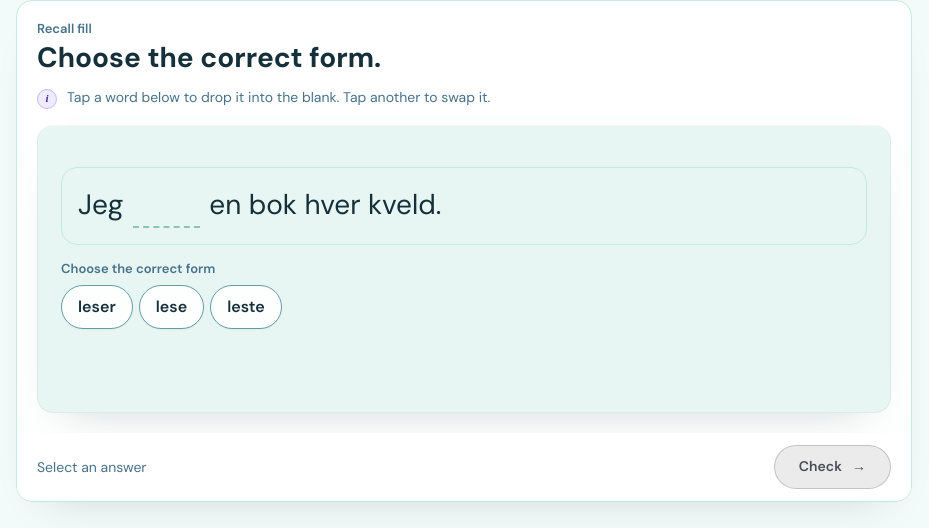
Scenario: FlashCardRecallFill › disables the form options after Check
This screenshot has width=929, height=528.
Click the radio button labelled "leser" at [97, 307], box [61, 285, 133, 329]
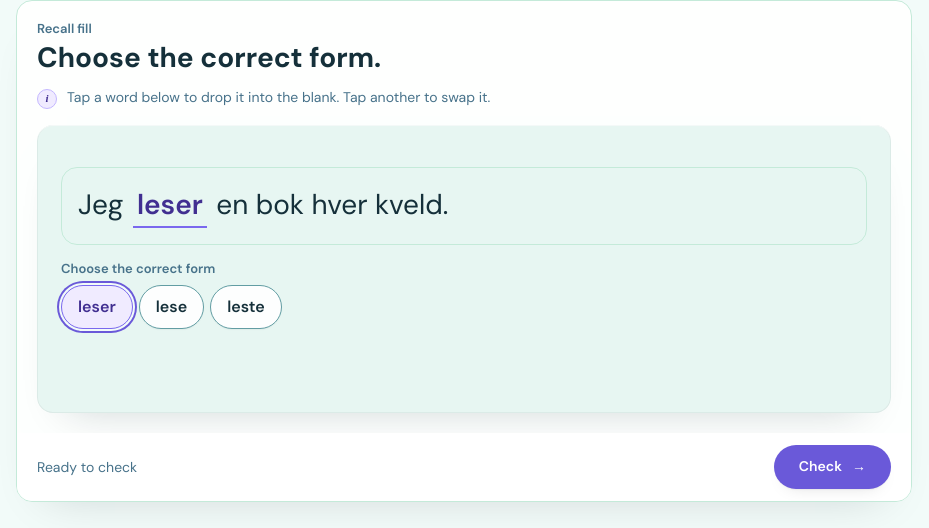
Click the button "Check →" at [832, 467], box [774, 445, 891, 489]
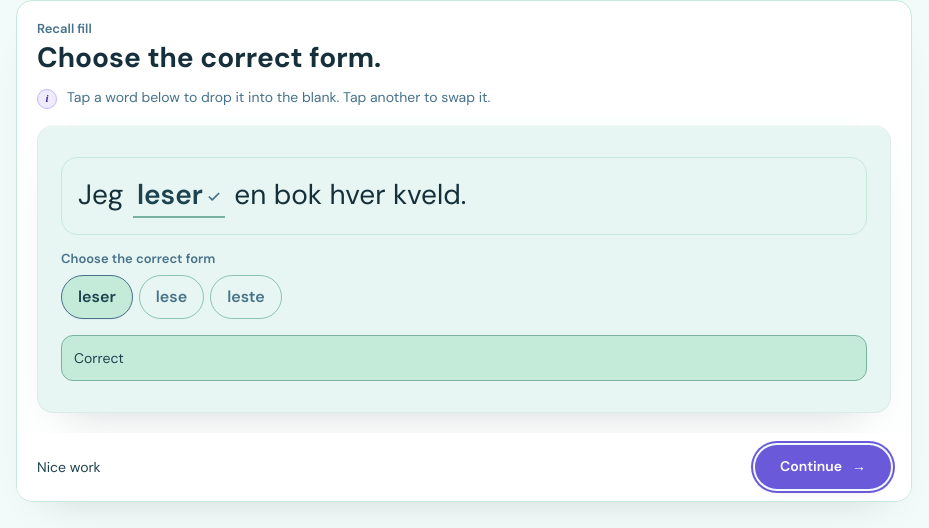
Result: the radio button labelled "leser" is disabled at [61, 275, 133, 319]
Result: the radio button labelled "lese" is disabled at [139, 275, 204, 319]
